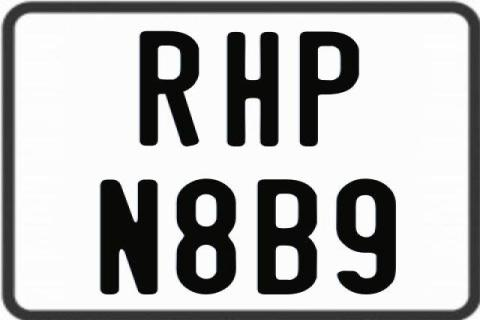0: (336, 179, 402, 297), (175, 178, 236, 296)
B: (257, 178, 321, 294)
H: (224, 32, 280, 149)
N: (100, 180, 162, 300)
P: (297, 29, 359, 147)
R: (137, 30, 199, 148)
